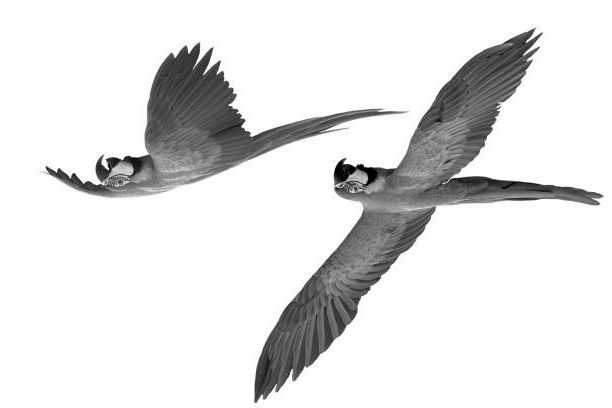Bird: (251, 25, 602, 406), (39, 38, 409, 200)
